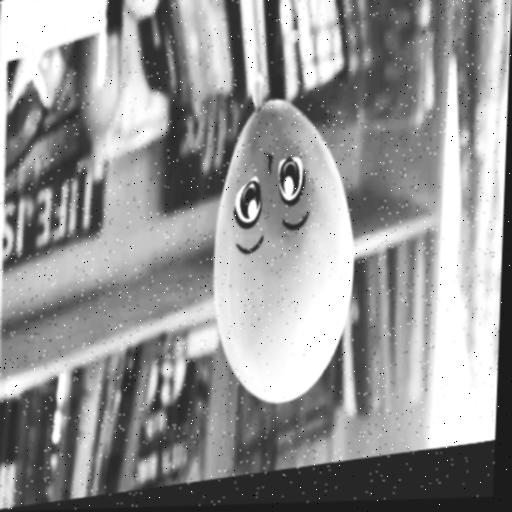balloon: (208, 92, 354, 417)
